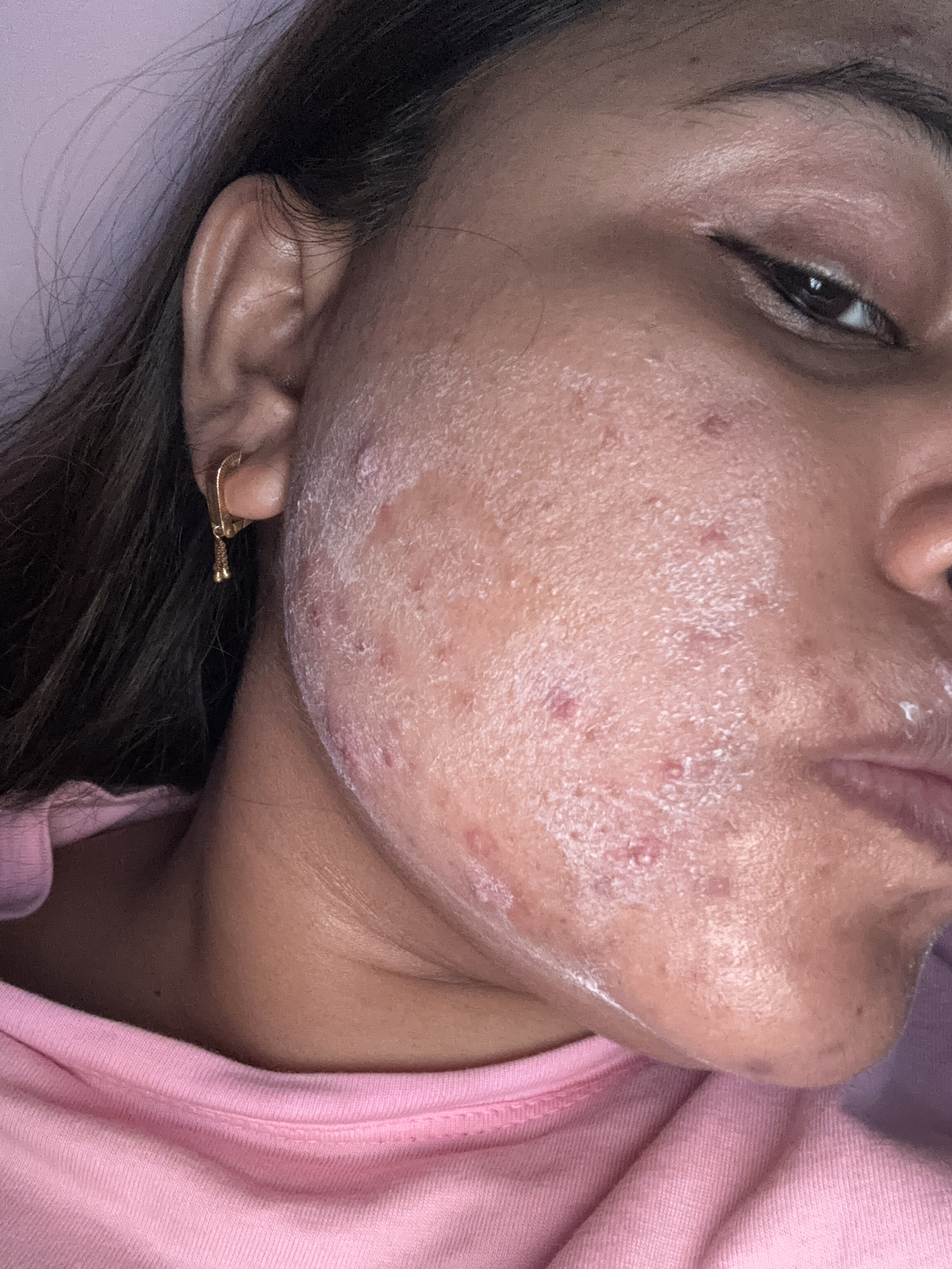pustule: (626, 843, 669, 885), (654, 757, 706, 791)
